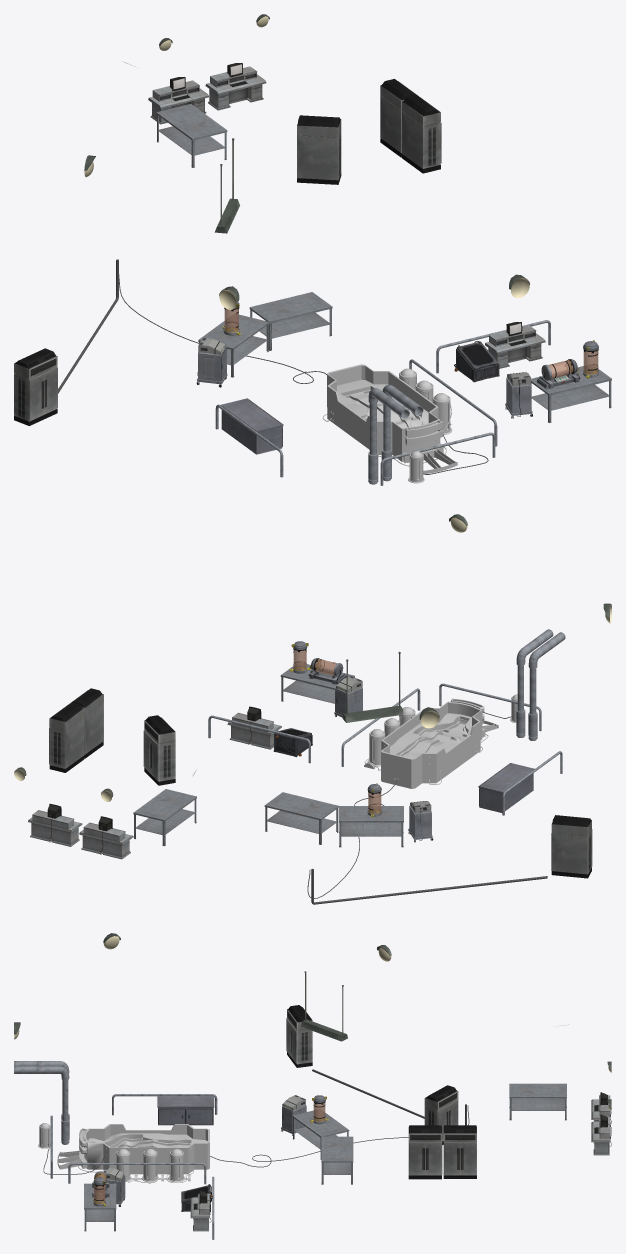
File: Assets2.fbx
3 renders of one model, top to bottom at view 1: azimuth 30°, elevation 25°; view 2: azimuth 150°, elevation 25°; view 3: azimuth 270°, elevation 25°, orthographic. The views are drawn at different scales.
Parts seen in each view (by area): view 1: polySurface647, Closet2, Closet1, Closet7, Table_new2, Table_new3, Desk6, Table_new, Desk3_new1, Desk3_new, Table_new1, polySurface674 (+8 smaller); view 2: polySurface647, Closet1, Closet6, Table_new2, polySurface674, Closet2, Table_new1, Table_new3, Desk6, Desk3_new2, Desk3_new1, Desk3_new (+10 smaller); view 3: polySurface647, Closet7, Closet6, Desk6, Table_new3, Closet1, Table_new2, polySurface674, Closet2, Table_new1, Table_new, polySurface761 (+9 smaller).
Part boxes in pixels (x1,y1,x2,y2): polySurface647: [327, 364, 444, 463]; Closet2: [297, 115, 341, 184]; Closet1: [14, 348, 57, 425]; Closet7: [402, 94, 441, 173]; Table_new2: [249, 292, 332, 350]; Table_new3: [156, 104, 227, 167]; Desk6: [220, 398, 283, 454]; Table_new: [531, 364, 611, 422]; Desk3_new1: [205, 63, 266, 110]; Desk3_new: [485, 322, 545, 368]; Table_new1: [198, 314, 269, 377]; polySurface674: [337, 379, 428, 427]; polySurface647: [381, 701, 485, 788]; Closet1: [551, 815, 592, 878]; Closet6: [49, 702, 84, 772]; Table_new2: [264, 792, 338, 844]; polySurface674: [390, 713, 471, 758]; Closet2: [143, 715, 175, 785]; Table_new1: [339, 806, 403, 847]; Table_new3: [133, 789, 196, 846]; Desk6: [478, 763, 534, 812]; Desk3_new2: [79, 816, 133, 859]; Desk3_new1: [28, 804, 82, 846]; Desk3_new: [227, 706, 281, 749]; polySurface647: [79, 1124, 209, 1174]; Closet7: [408, 1125, 442, 1179]; Closet6: [443, 1125, 476, 1178]; Desk6: [157, 1096, 214, 1125]; Table_new3: [509, 1083, 566, 1120]; Closet1: [286, 1005, 312, 1067]; Table_new2: [321, 1136, 353, 1184]; polySurface674: [88, 1133, 207, 1147]; Closet2: [424, 1085, 458, 1144]; Table_new1: [292, 1109, 349, 1159]; Table_new: [84, 1183, 116, 1231]; polySurface761: [14, 1066, 69, 1144].
Size of the model in its own units: 28.62 by 11.57 by 37.59.
